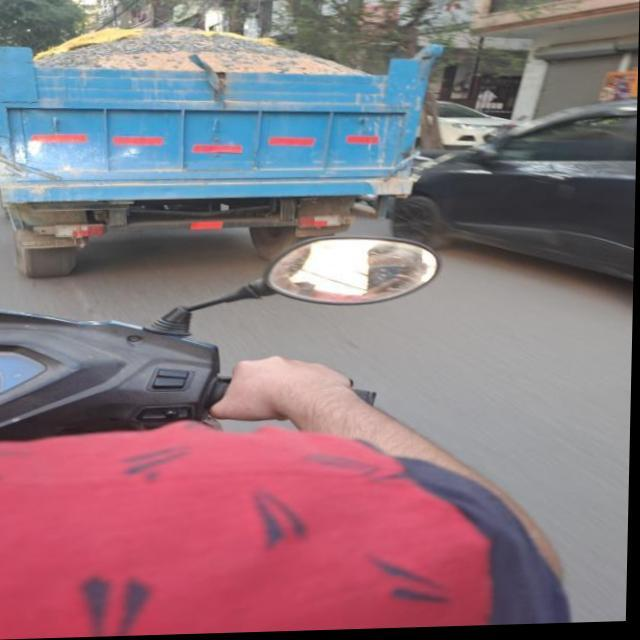uncovered: (0, 9, 443, 235)
